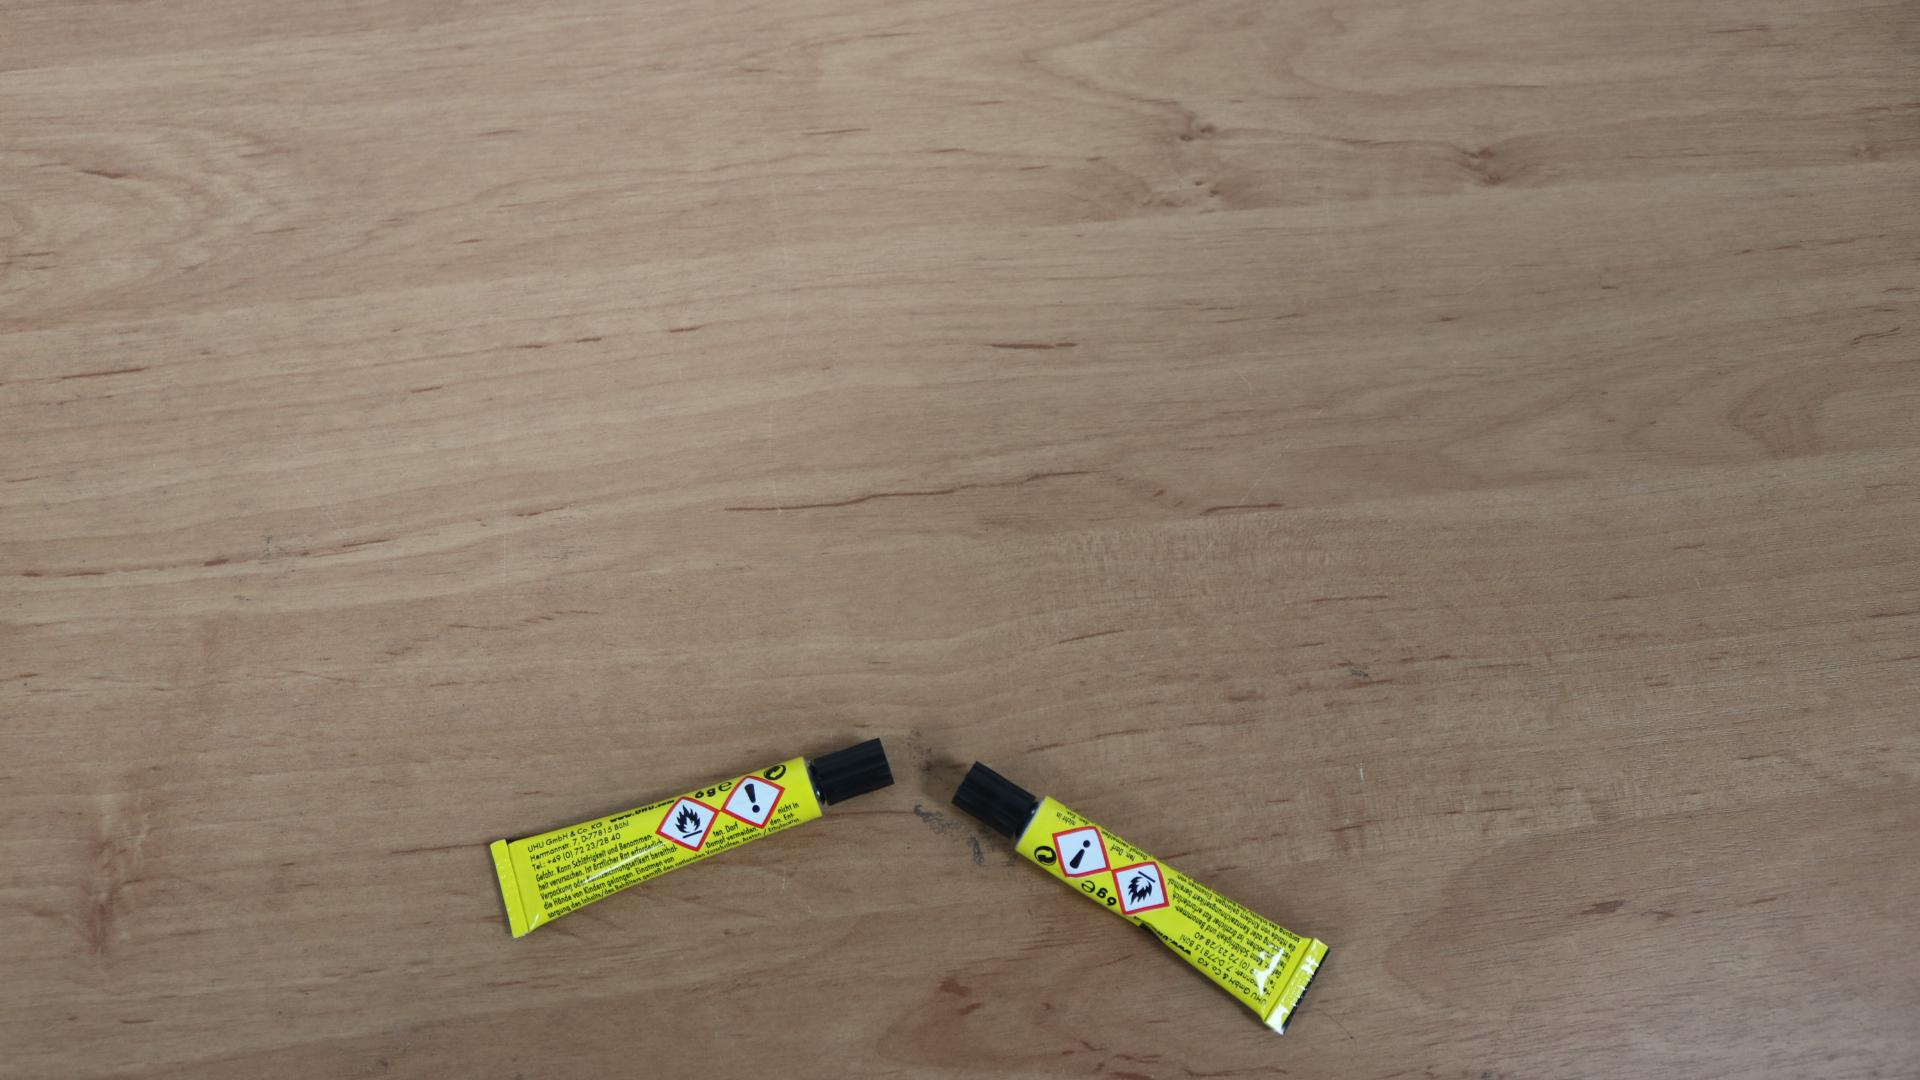Head: (850, 767, 857, 774), (991, 795, 998, 802)
Tail: (1293, 984, 1301, 992), (505, 884, 512, 891)
Tube: (950, 760, 1331, 1037), (490, 737, 896, 938)
